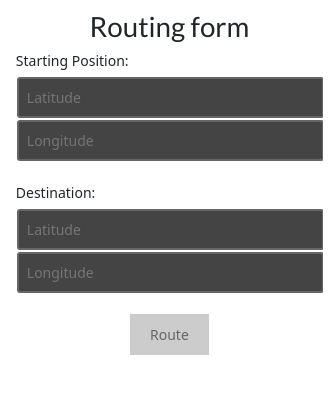
Test case: correcting coordinates removes error message
Type "0" into the field with placeholder "Latitude" below "Starting Position" at [170, 98], box [17,77,323,118]
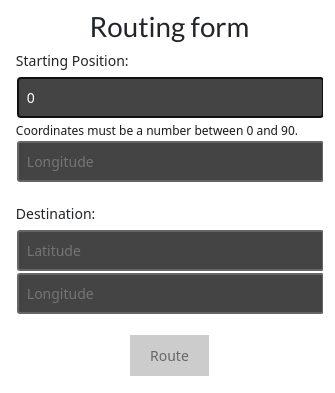
Type "9" into the 1st field at [170, 98], box [17,77,323,118]
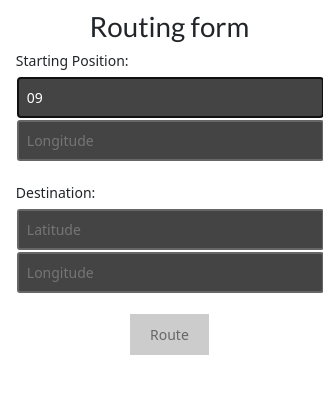
Expected: the text "Coordinates must be a number between 0 and 90." is gone
